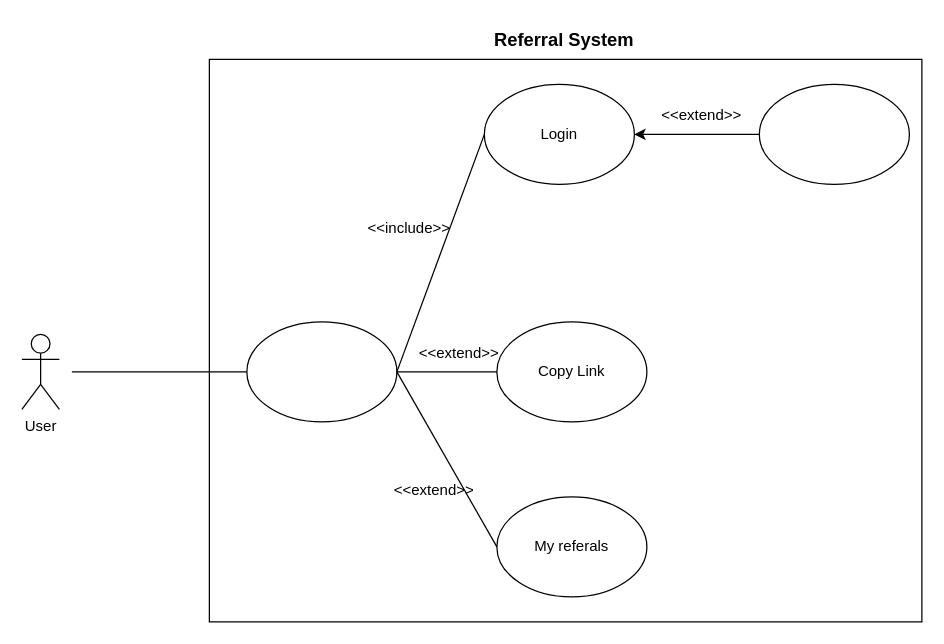
Some shapes in this 944 by 644 pixel diagram are drawn without their labels. The shapes that lost their labels are listed below. From the top down, each one's centre as x and y in pixels, then its label:
the point at 833,133: Register
the point at 321,371: Profile
